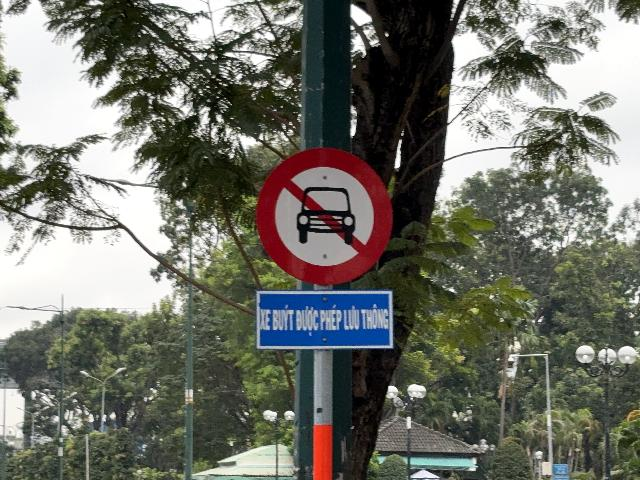cam-o-to: (255, 148, 393, 285)
